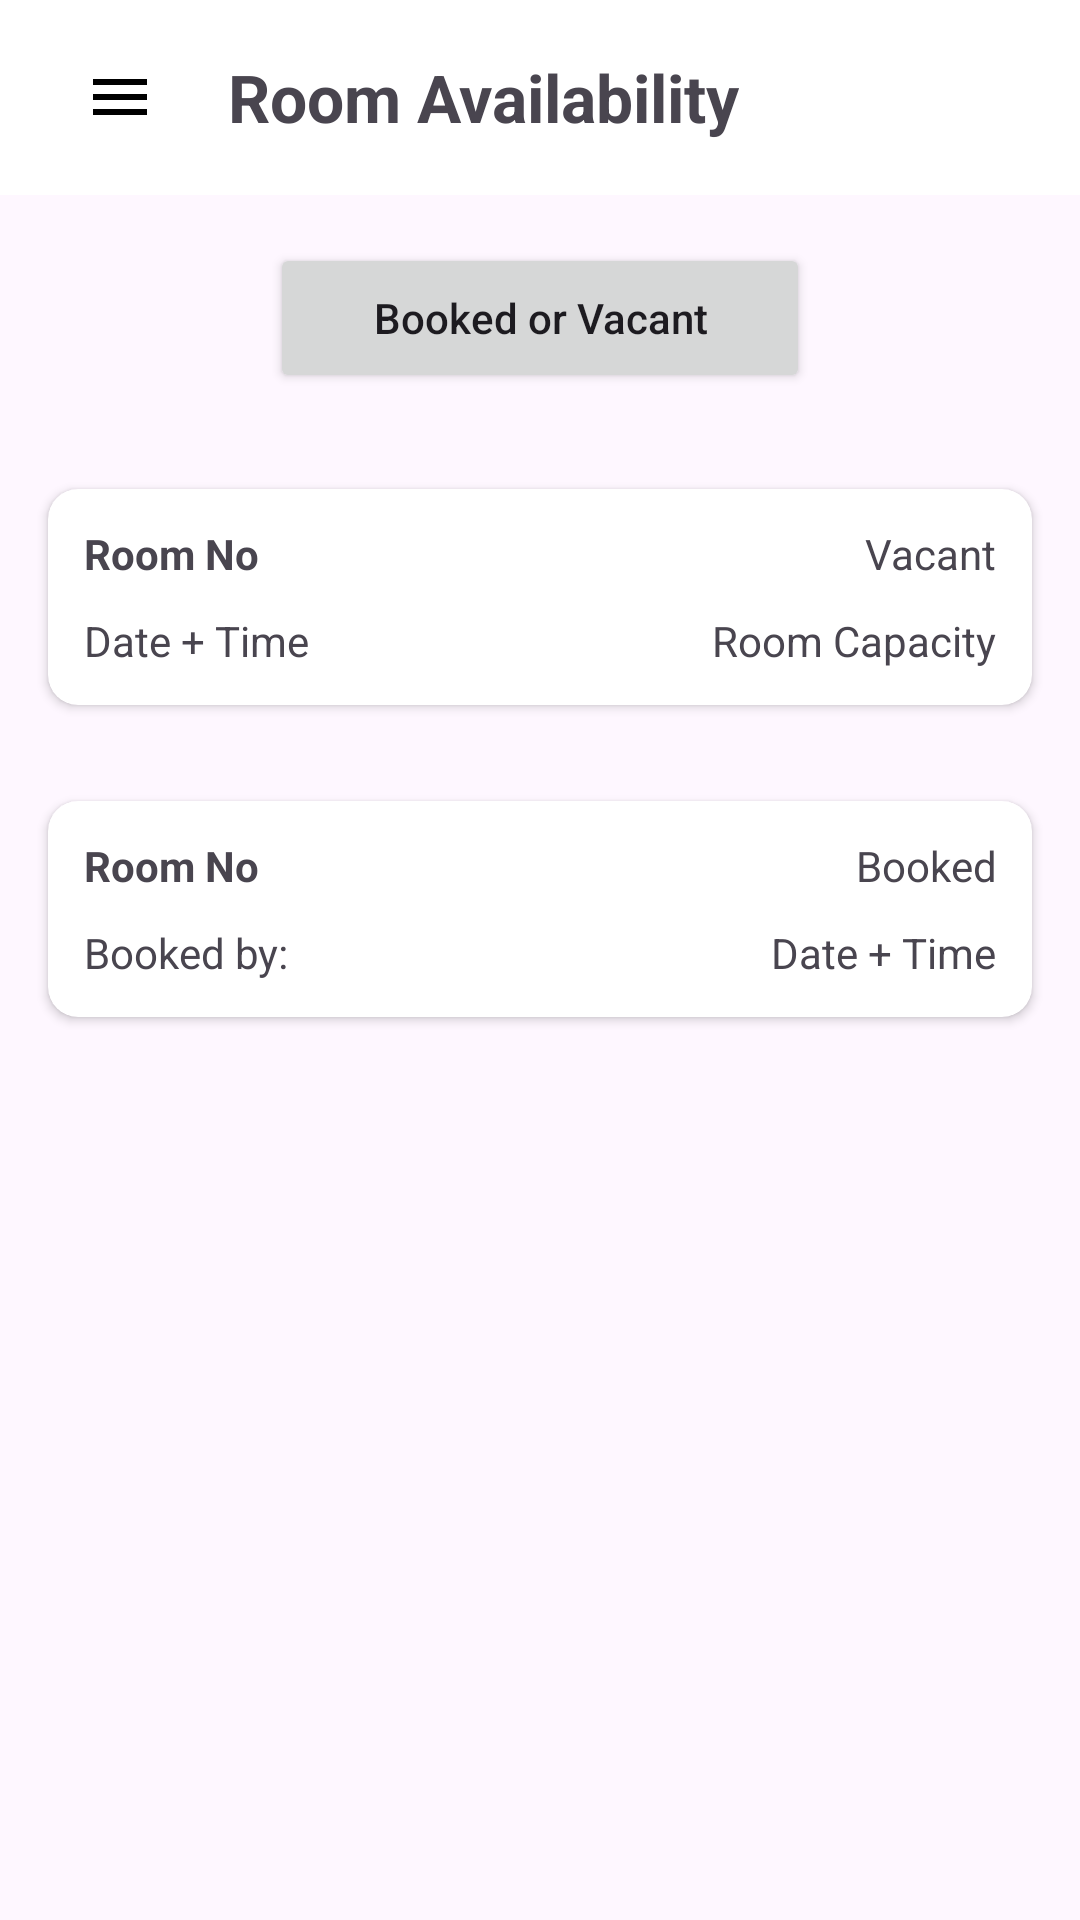

Point at icon controls on the screen. Image size 1080 x 1920, points as (x=x, y=y).
menu: (x=120, y=97)
